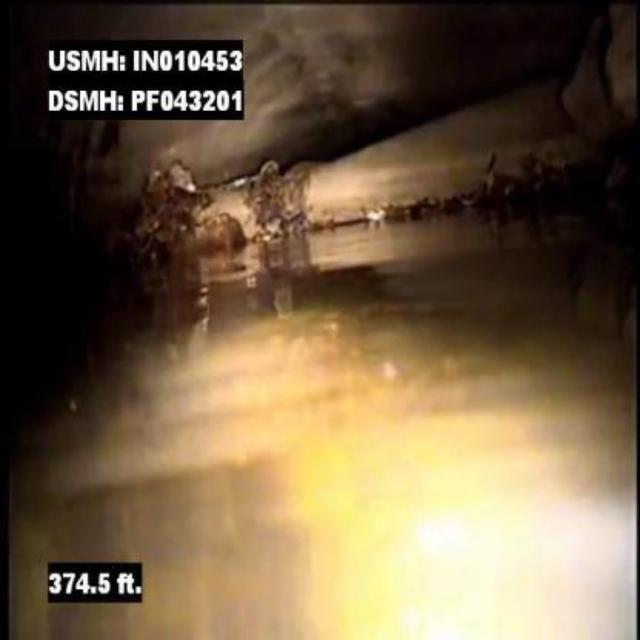Utility intrusion: (146, 118, 537, 249)
